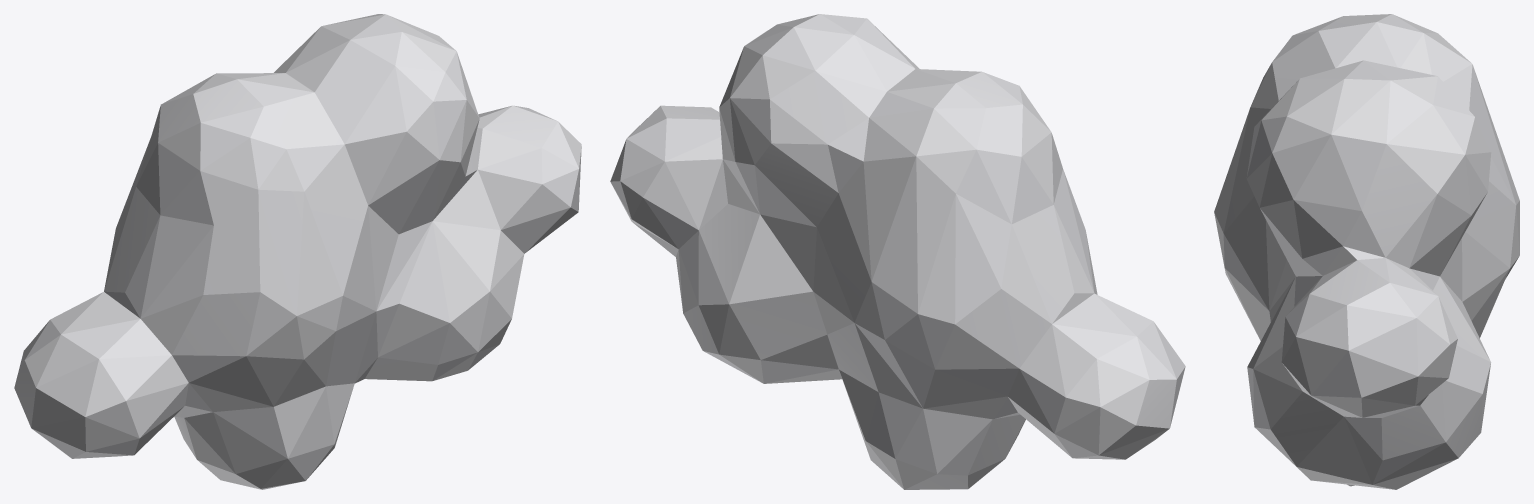
File: small_cloud_17.fbx
3 renders of one model, left to right at view 1: azimuth 30°, elevation 25°; view 2: azimuth 150°, elevation 25°; view 3: azimuth 270°, elevation 25°, orthographic. The views are drawn at different scales.
Parts seen in each view (by area): view 1: cloud_17; view 2: cloud_17; view 3: cloud_17.
Boxes of the visible parts, x1,y1,x2,y2 form: cloud_17: (14, 14, 581, 489); cloud_17: (610, 14, 1185, 489); cloud_17: (1214, 14, 1519, 489).
Bounding box in the file's own units: 389 × 293 × 172.
